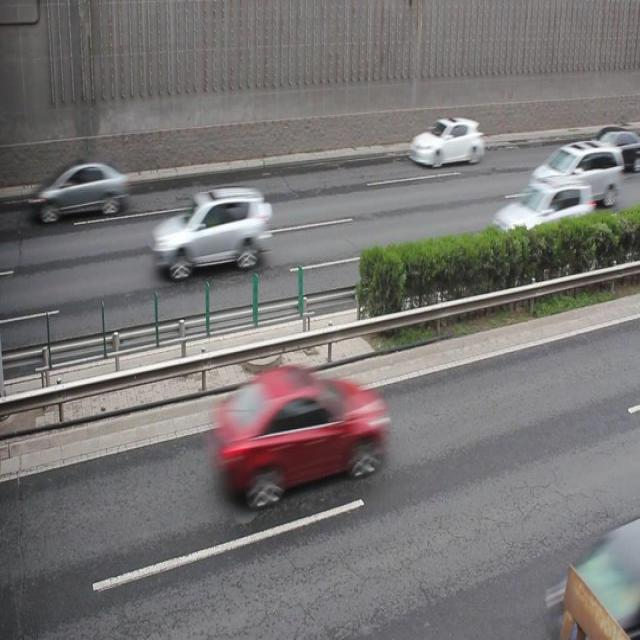car: (214, 362, 386, 503), (151, 183, 273, 280), (490, 173, 593, 249), (37, 156, 130, 223), (408, 114, 483, 168), (587, 125, 640, 171)
truck: (528, 138, 622, 206)
